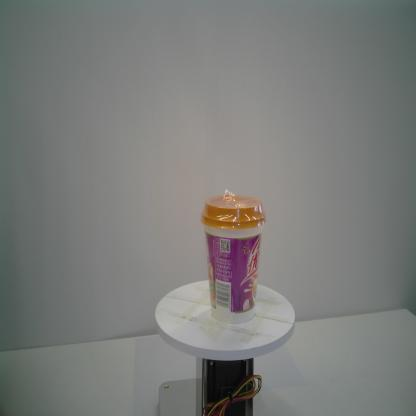Instant Drink: (200, 192, 267, 323)
